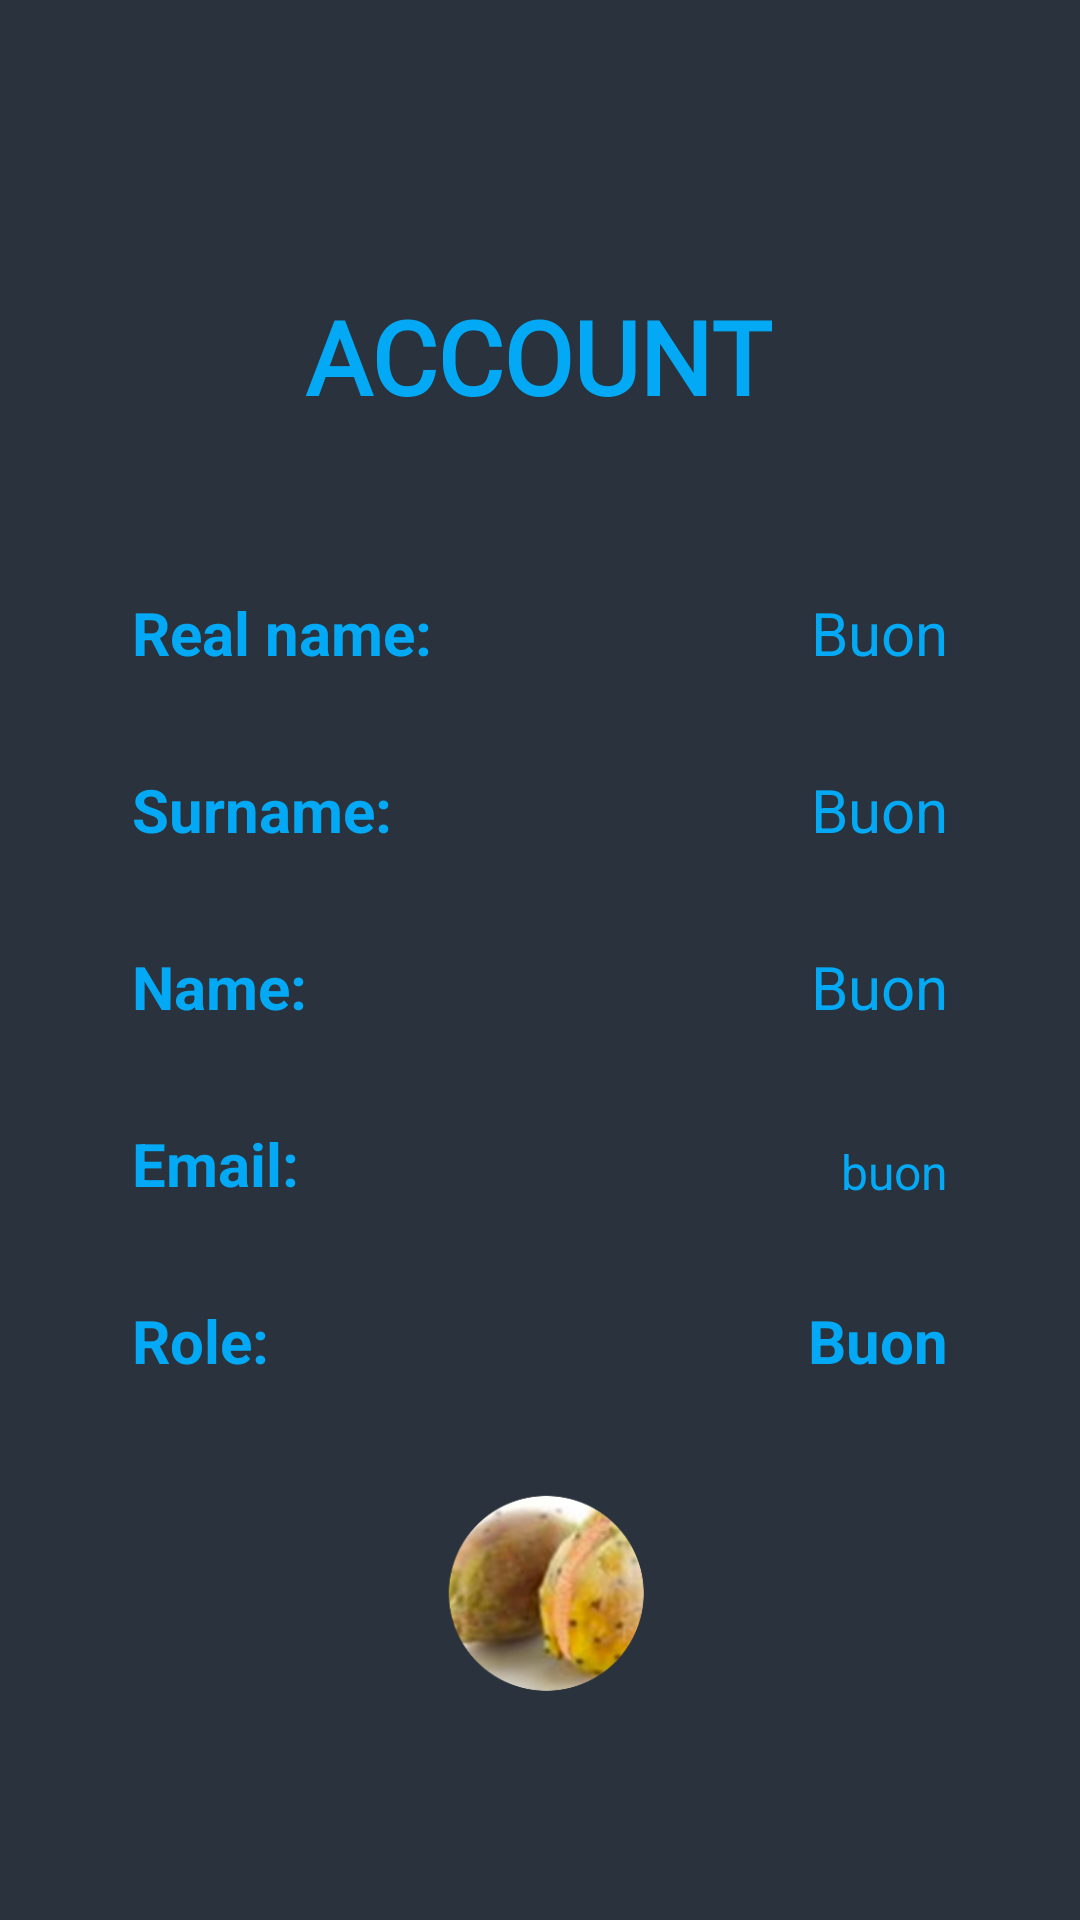

Point at icon controls on the screen. Image size 1080px×1920px, points as (x,y).
fico: (546,1593)
